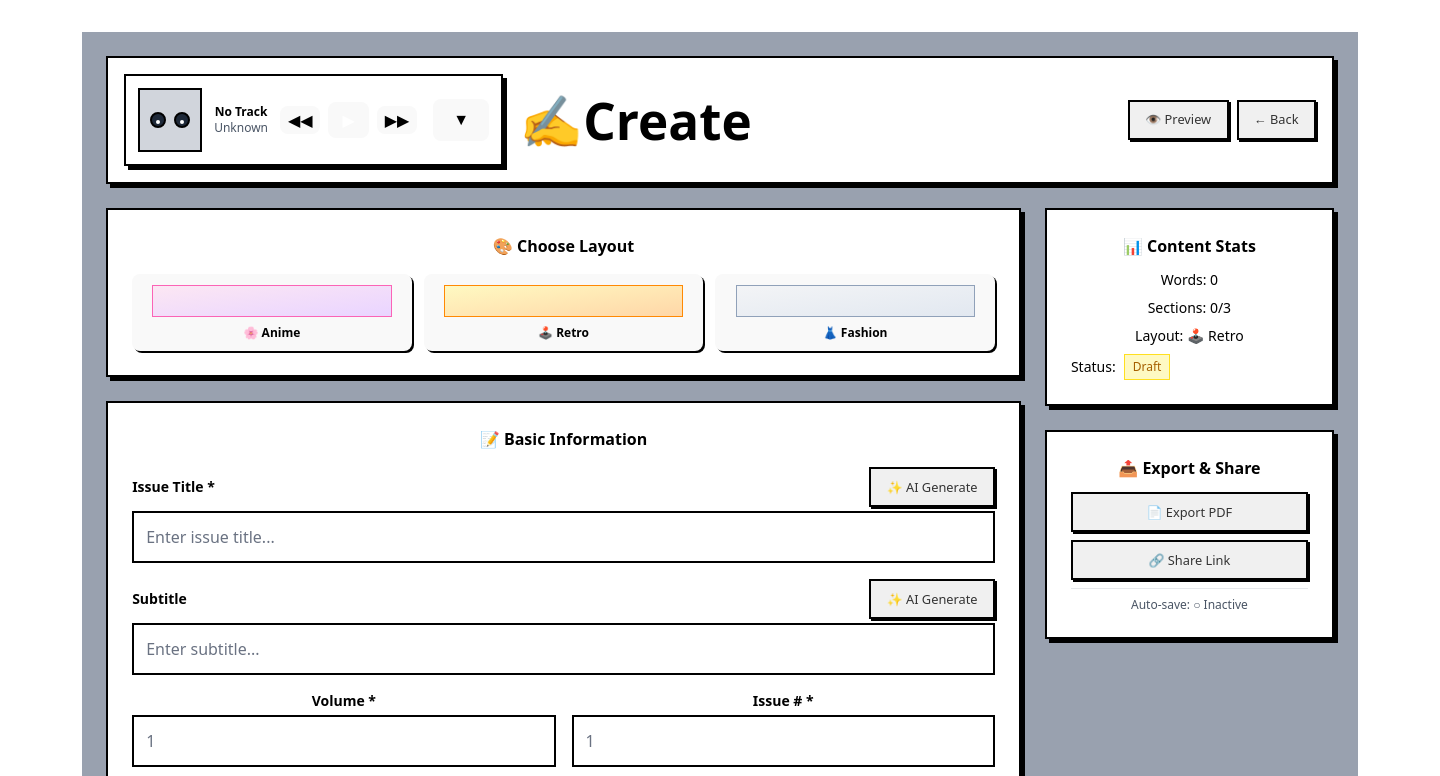
Test: issueEditor component › Form Validation › shows error when volume is empty on save
The width and height of the screenshot is (1440, 776).
Expected: the heading "✍️Create" is shown, [519,85,752,155]
Type "Test Title" into the field with placeholder "Enter issue title..." at point(564, 537), box [132,511,995,563]
(page scrolled)
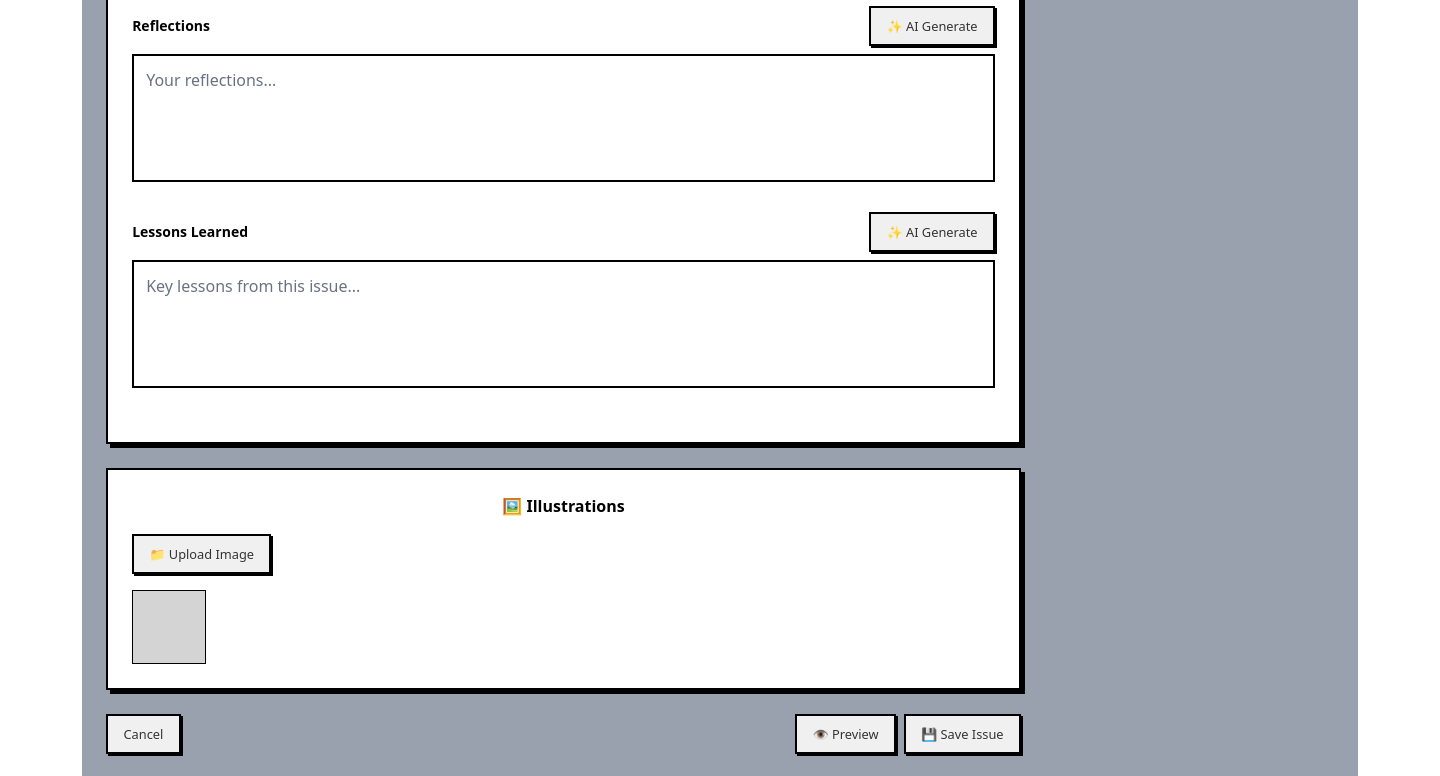
Click the button "💾 Save Issue" at point(962, 734), box [904,714,1021,754]
(page scrolled)
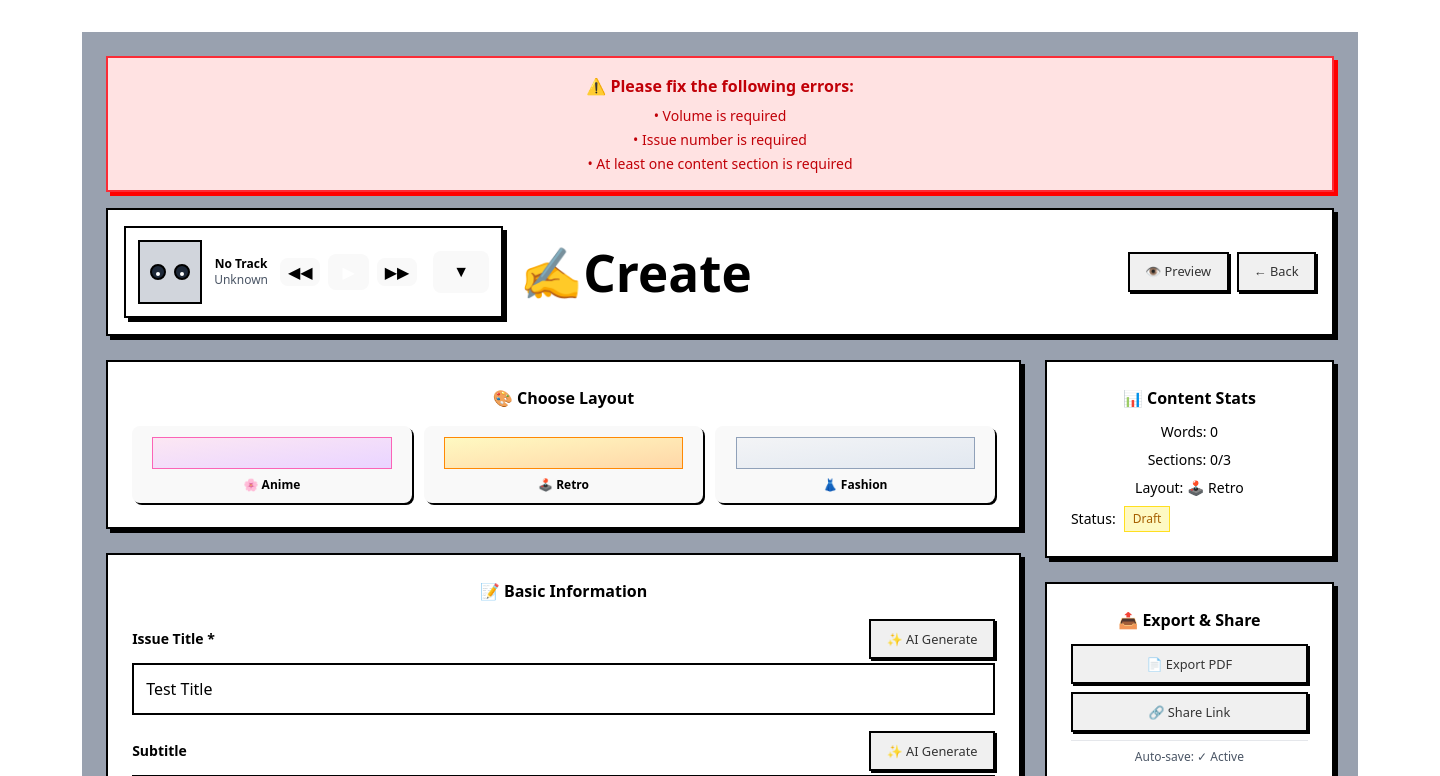
Now the list item "• Volume is required" is shown, box [654,106,786,125]
